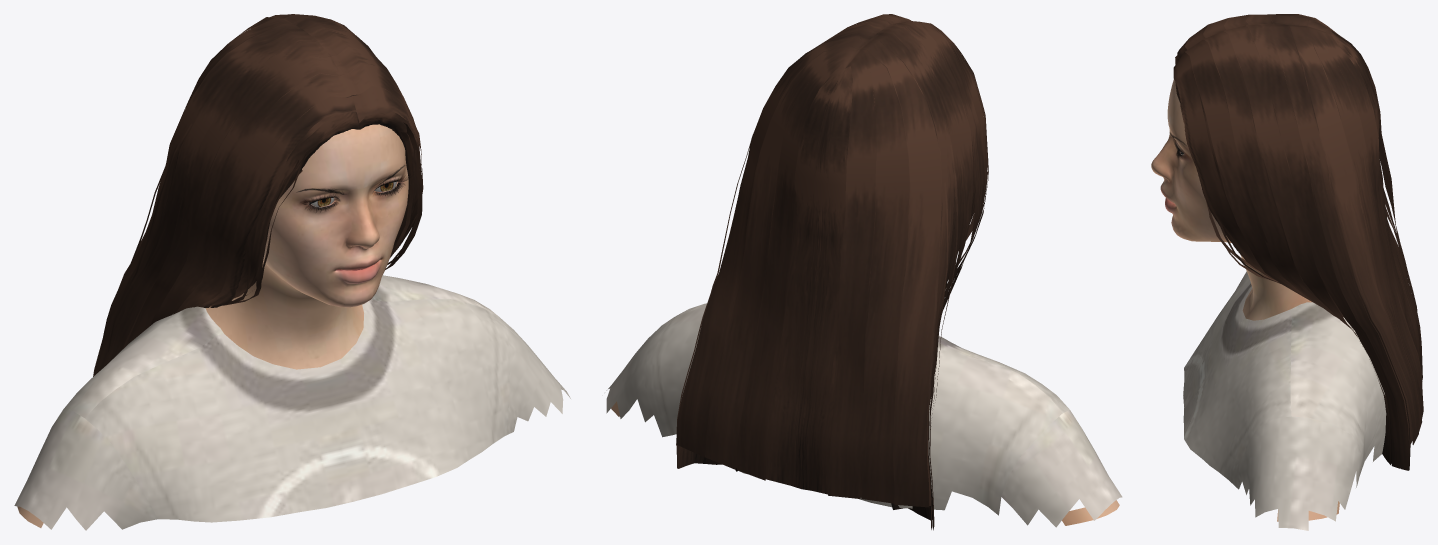
The model's file is nova.glb.
3 renders of one model, left to right at view 1: azimuth 30°, elevation 25°; view 2: azimuth 150°, elevation 25°; view 3: azimuth 270°, elevation 25°, orthographic. The views are drawn at different scales.
Visible parts, largest first — view 1: Human.female_casualsuit02, Human.long01, Human; view 2: Human.long01, Human.female_casualsuit02, Human; view 3: Human.long01, Human.female_casualsuit02, Human.
Part boxes in pixels (bbox=[...]): Human.female_casualsuit02: bbox=[14, 275, 570, 530]; Human.long01: bbox=[93, 14, 423, 376]; Human: bbox=[17, 124, 408, 527]; Human.long01: bbox=[676, 14, 988, 530]; Human.female_casualsuit02: bbox=[606, 303, 1122, 527]; Human: bbox=[611, 401, 1119, 525]; Human.long01: bbox=[1173, 14, 1423, 470]; Human.female_casualsuit02: bbox=[1183, 271, 1386, 530]; Human: bbox=[1151, 79, 1339, 521].
Size of the model in its own units: 0.481 by 0.3774 by 0.2378.
8 materials, 8 textured.
